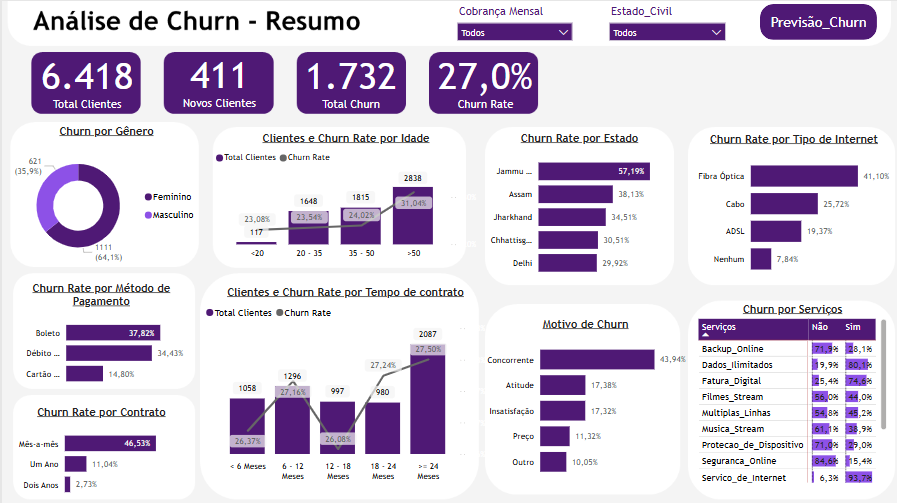

What the dashboard file says about the page in this screenshot:
{"tool":"powerbi","page":{"name":"Resumo","canvas":[1280,720],"ordinal":0},"visuals":[{"type":"card","fields":{"Values":["Medidas.Total Clientes"]},"box":[14.5,67.1,215,91.7],"z":0},{"type":"card","fields":{"Values":["Medidas.Novos Clientes"]},"box":[197.1,65.7,227.1,91.4],"z":1000},{"type":"card","fields":{"Values":["Medidas.Total Churn"]},"box":[391.4,64.3,214.3,95.7],"z":2000},{"type":"card","fields":{"Values":["Medidas.Churn Rate"]},"box":[587.1,54.3,207.1,115.7],"z":3000},{"type":"donutChart","title":"Churn por Gênero","fields":{"Category":["prod_Churn.Genero"],"Y":["Medidas.Total Churn"]},"box":[10,175.7,278.6,214.3],"z":4000},{"type":"lineClusteredColumnComboChart","title":"Clientes e Churn Rate por Idade","fields":{"Category":["Mapeamento de Idade.Idade_Group"],"Y":["Medidas.Total Clientes"],"Y2":["Medidas.Churn Rate"]},"box":[300,185.7,382.9,190],"z":5000},{"type":"clusteredBarChart","title":"Churn Rate por Método de Pagamento","fields":{"Category":["prod_Churn.Metodo_Pagamento"],"Y":["Medidas.Churn Rate"]},"box":[15,400,252.5,161.2],"z":6000},{"type":"clusteredBarChart","fields":{"Category":["prod_Churn.Contrato"],"Y":["Medidas.Churn Rate"]},"box":[15,577.5,252.5,142.5],"z":7000},{"type":"lineStackedColumnComboChart","title":"Clientes e Churn Rate por Tempo de contrato","fields":{"Category":["Mapeamento de tempo de uso mensal.Contrato_Tempo_Group"],"Y2":["Medidas.Churn Rate"],"Y":["Medidas.Total Clientes"]},"box":[286.2,405,410,288.8],"z":8000},{"type":"clusteredBarChart","fields":{"Category":["prod_Churn.Estado"],"Y":["Medidas.Churn Rate"]},"box":[681.4,185.7,287.1,220],"z":9000},{"type":"clusteredBarChart","title":"Motivo de Churn","fields":{"Category":["prod_Churn.Categoria_Churn"],"Y":["Medidas.Total Churn"]},"box":[683.3,451.7,301.7,241.7],"z":10000},{"type":"clusteredBarChart","title":"Churn Rate por Tipo de Internet","fields":{"Category":["prod_Churn.Tipo_de_Internet"],"Y":["Medidas.Churn Rate"]},"box":[985.7,187.1,291.4,218.6],"z":11000},{"type":"pivotTable","title":"Churn por Serviços","fields":{"Rows":["prod_Serviços.Serviços"],"Columns":["prod_Serviços.Status"],"Values":["Sum(prod_Serviços.Churn Status)"]},"box":[990,430,278.9,263.3],"z":12000},{"type":"actionButton","box":[1082.9,4.3,167.1,51.4],"z":12500},{"type":"slicer","fields":{"Values":["prod_Churn.Valor_Mensal_Variedade"]},"box":[640,0,185,60],"z":13000},{"type":"slicer","fields":{"Values":["prod_Churn.Casado"]},"box":[856.7,0,186.7,65],"z":14000}]}

Visuals, with their boxes in screenshot pixels (x1, y1, x2, y2), scaled from the page's 1280x720 canvas onto the 897x503 screenshot:
card - Medidas.Total Clientes: 10/47/161/111
card - Medidas.Novos Clientes: 138/46/297/110
card - Medidas.Total Churn: 274/45/424/112
card - Medidas.Churn Rate: 411/38/557/119
"Churn por Gênero" donutChart: 7/123/202/272
"Clientes e Churn Rate por Idade" lineClusteredColumnComboChart: 210/130/479/262
"Churn Rate por Método de Pagamento" clusteredBarChart: 11/279/187/392
clusteredBarChart - prod_Churn.Contrato x Medidas.Churn Rate: 11/403/187/502
"Clientes e Churn Rate por Tempo de contrato" lineStackedColumnComboChart: 201/283/488/485
clusteredBarChart - prod_Churn.Estado x Medidas.Churn Rate: 478/130/679/283
"Motivo de Churn" clusteredBarChart: 479/316/690/484
"Churn Rate por Tipo de Internet" clusteredBarChart: 691/131/895/283
"Churn por Serviços" pivotTable: 694/300/889/484
actionButton: 759/3/876/39
slicer - prod_Churn.Valor_Mensal_Variedade: 448/0/578/42
slicer - prod_Churn.Casado: 600/0/731/45
